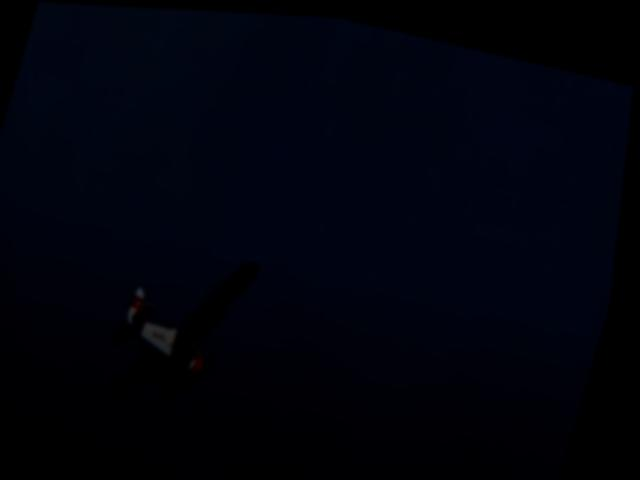uav: (97, 217, 281, 429)
